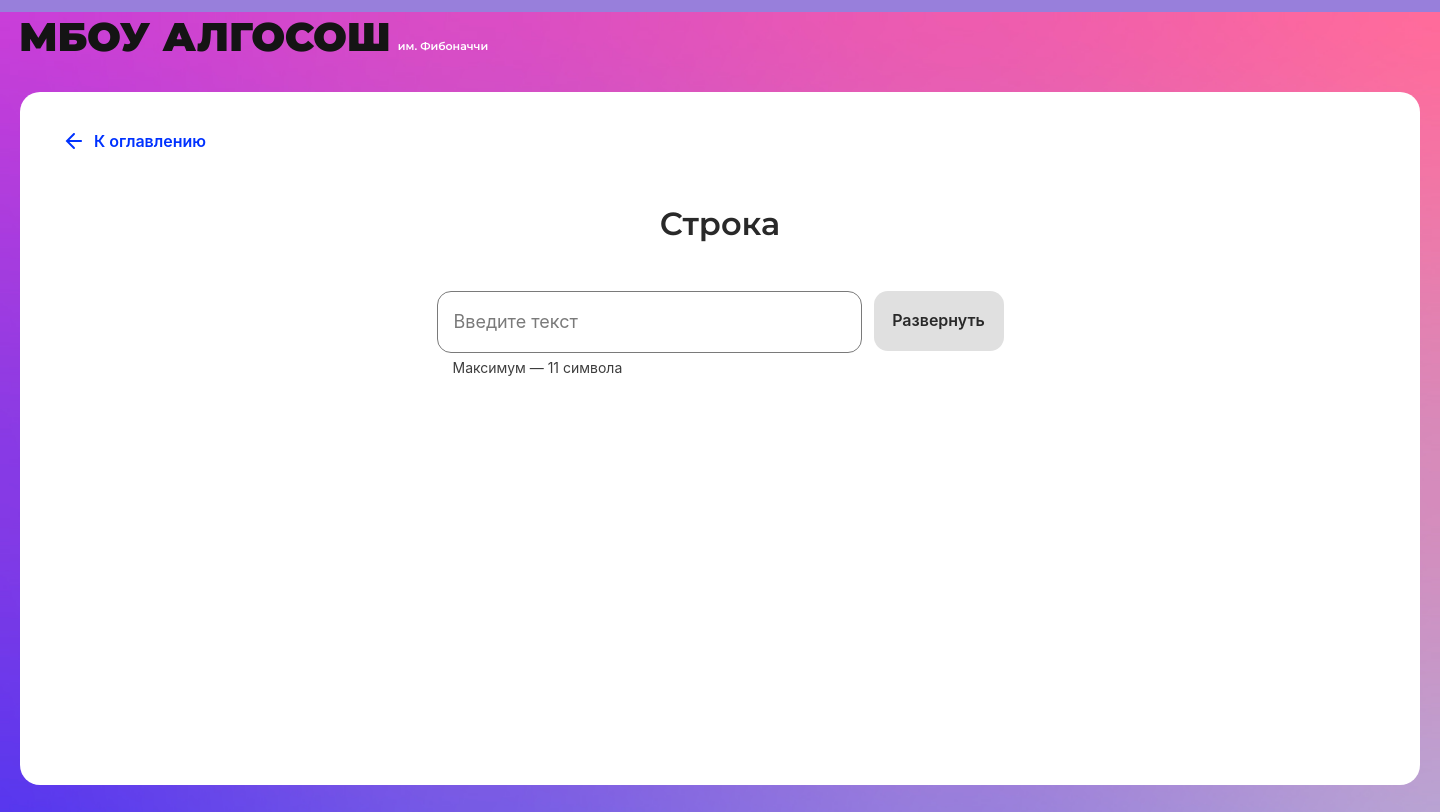
Test case: page open correctly › animation test
In the field with placeholder "Введите текст": [650, 322] box 437,291 -> 862,353, type "hello"
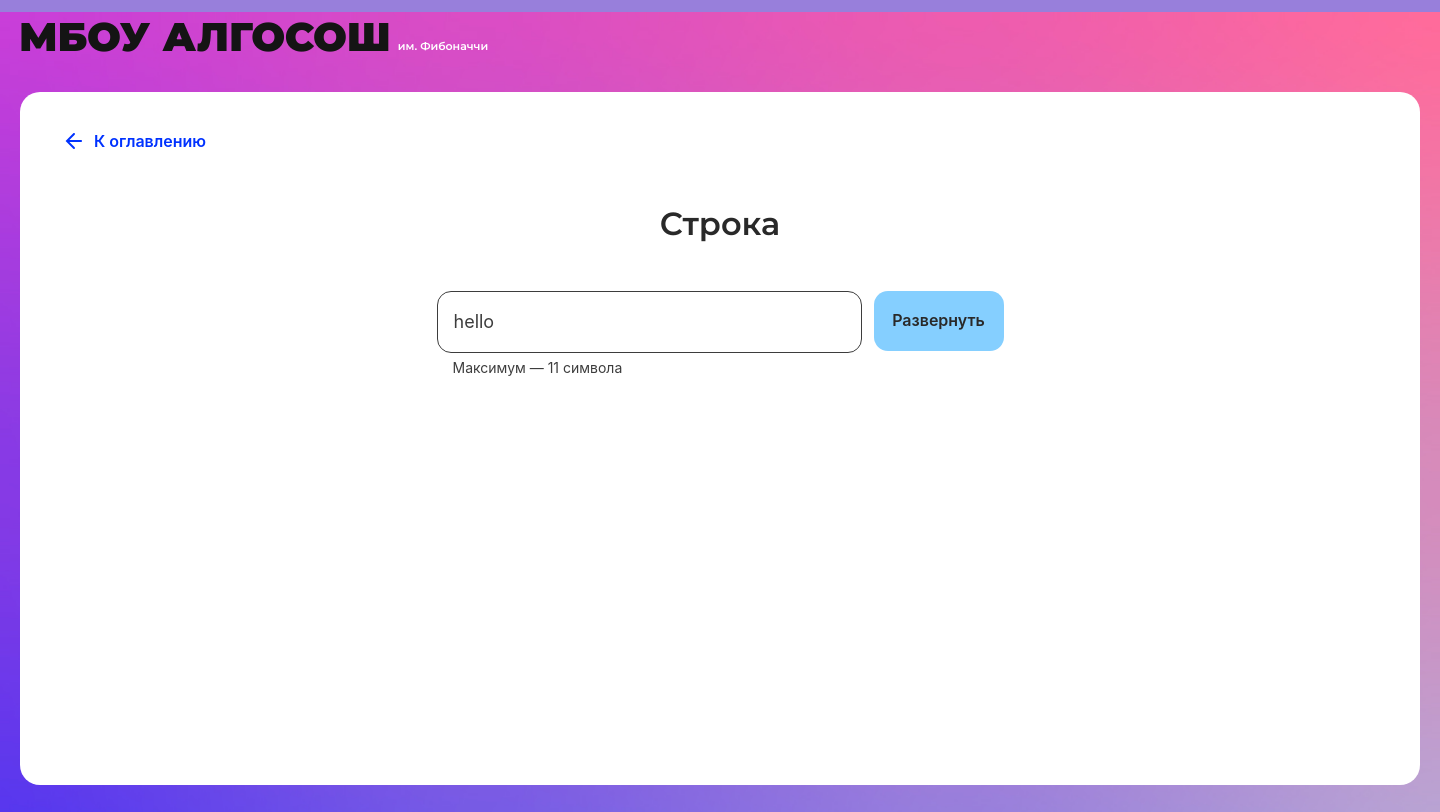
Check: the button is enabled
Click the button "Развернуть": [939, 321] box 874,291 -> 1004,351
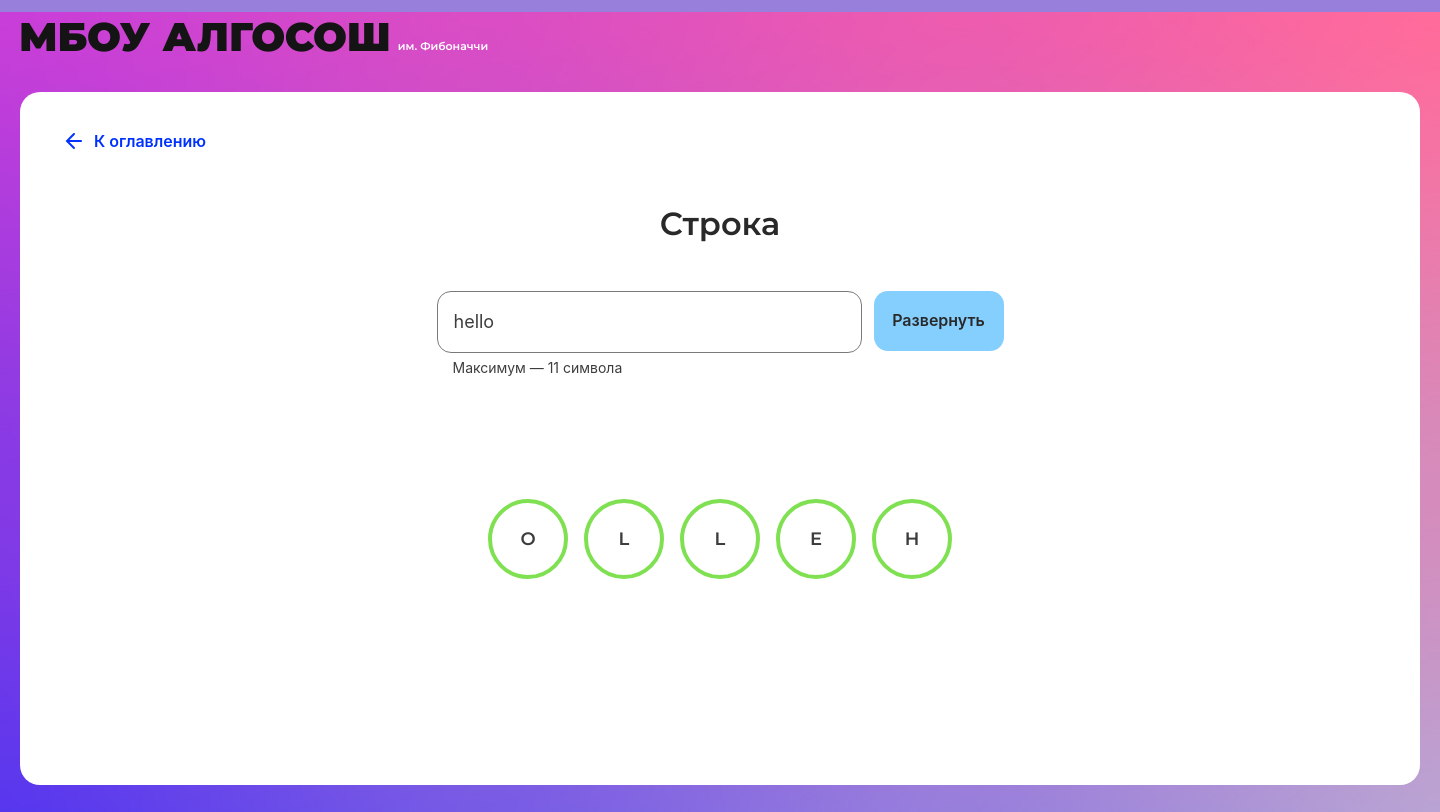
Check: the 2nd text with test id "letter" reads "l", box 715,528 -> 726,550
Check: the text with test id "letter" reads "o", box 520,528 -> 535,550
Check: the text with test id "letter" reads "h", box 905,528 -> 920,550
